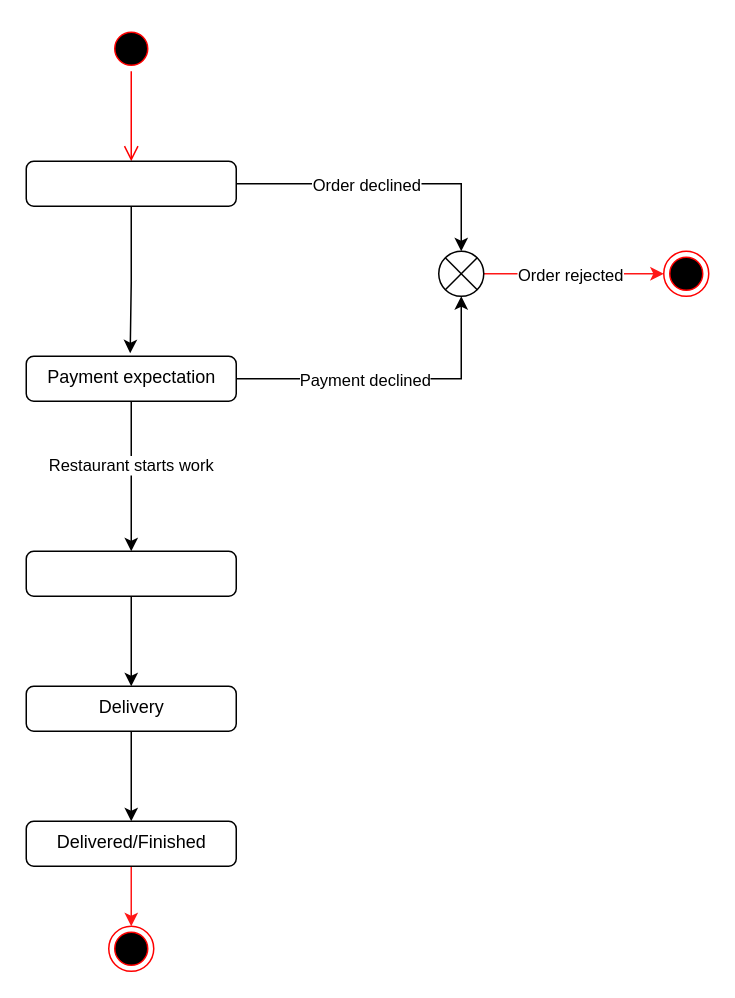
Some shapes in this 735 by 998 pixel diagram are drawn without their labels. Here are the shapes that lost their labels. From the top down, the centre of each, then its label:
At point 130,183: "Incomplete order".
At point 130,573: "Accepted order".
